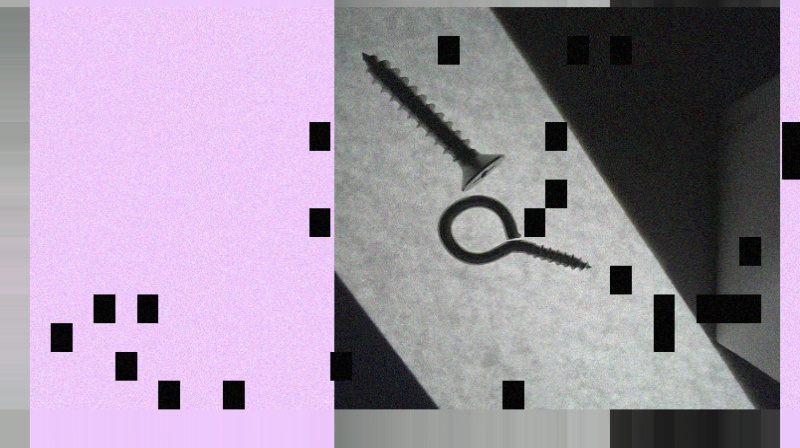O001: (438, 195, 596, 278)
S001: (360, 51, 506, 193)
